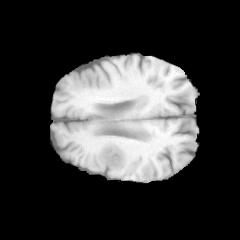glioma: (97, 142, 127, 170)
